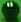black: (0, 0, 21, 22)
